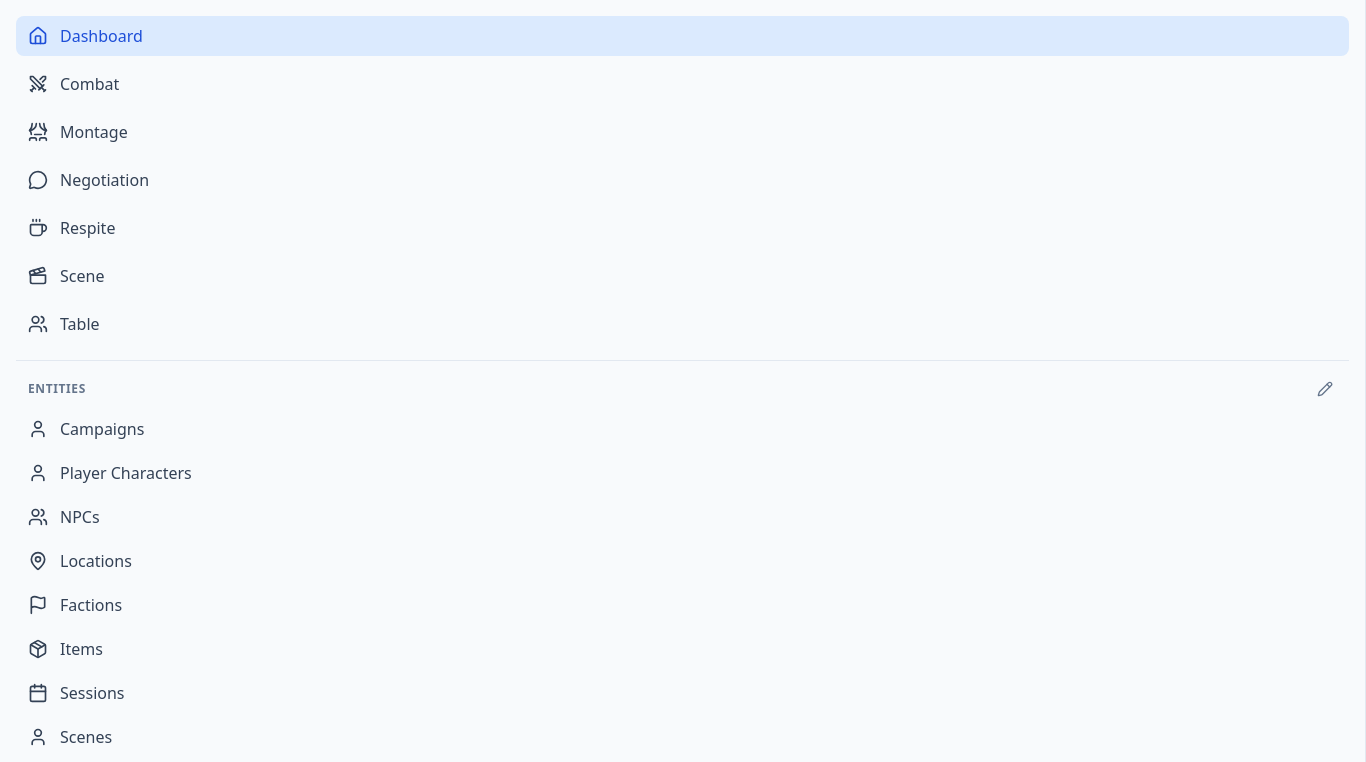
Test: Sidebar Drag and Drop (Issue #205 - RED Phase) › Edit Mode Drag and Drop UI › should render reorderable items in edit mode
# Enable edit mode
Click the button named "reorder entity types" at (1325, 389), box top-left (1313, 377), bottom-right (1337, 401)
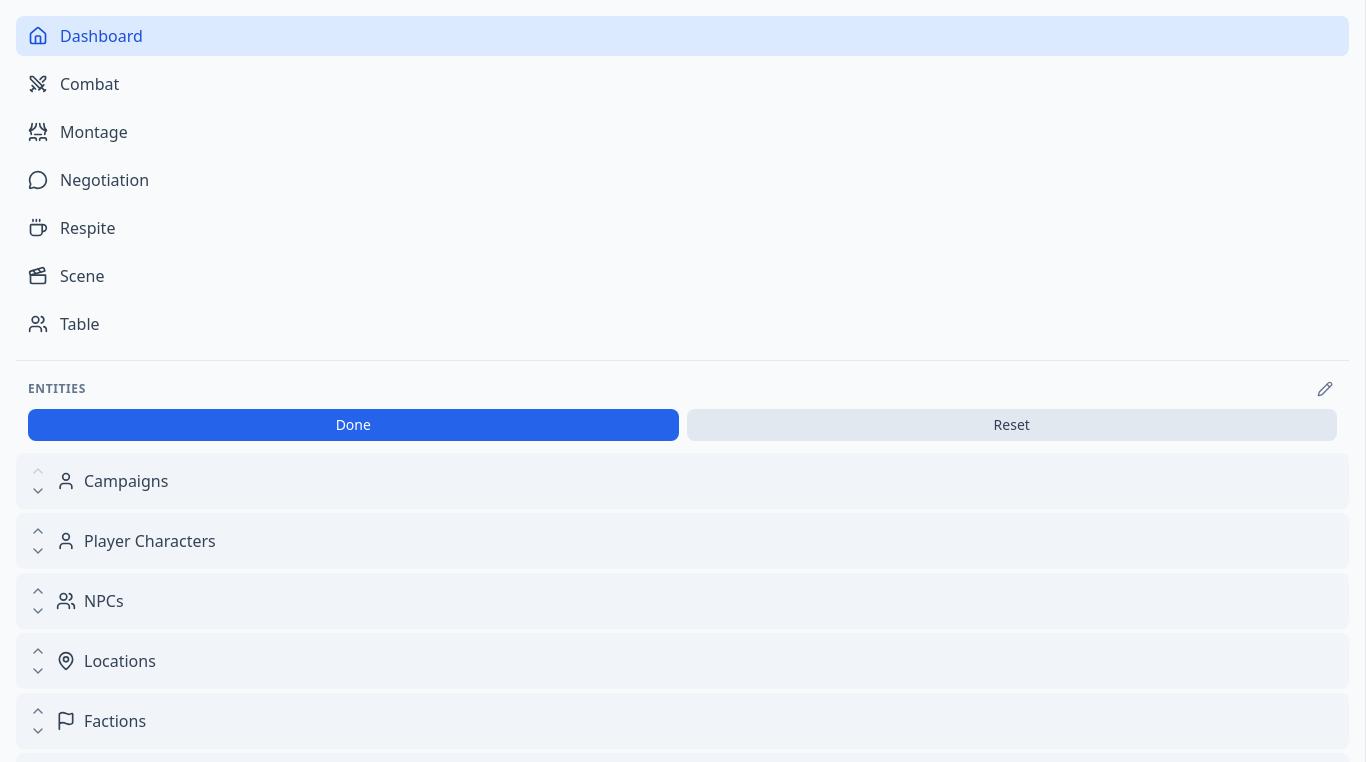
Result: the button "Done" is shown at top-left (28, 409), bottom-right (678, 441)
Result: the button "Reset" is shown at top-left (686, 409), bottom-right (1337, 441)
